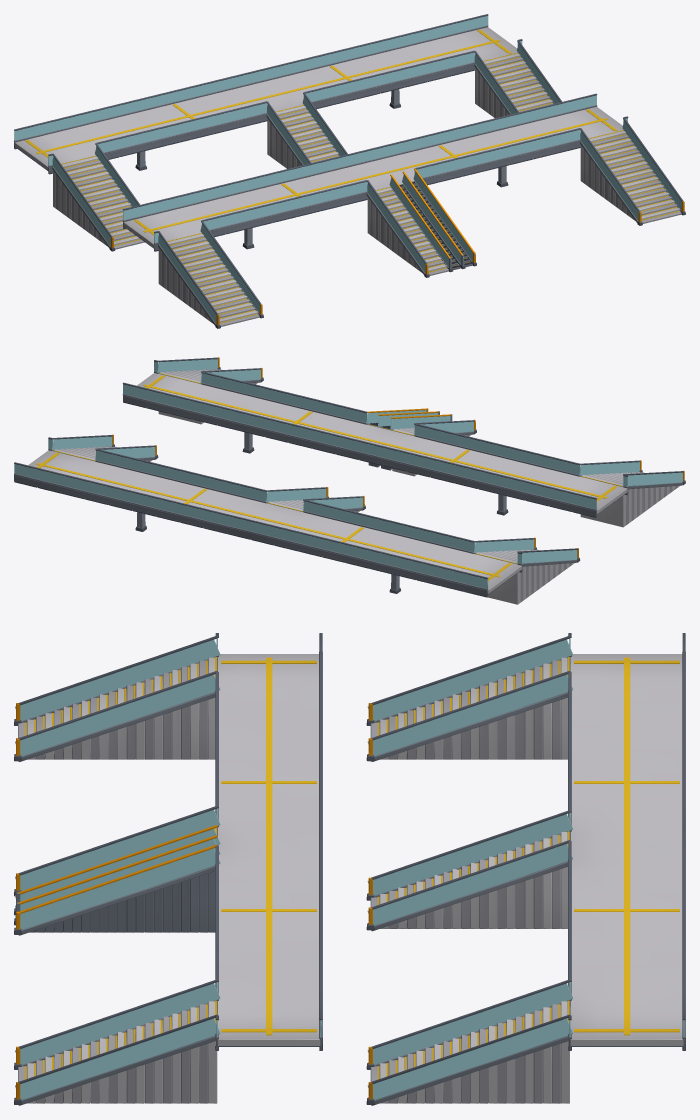
File: bridges.glb
The picture shows the model from 3 angles, top to bottom: view 1: azimuth 30°, elevation 25°; view 2: azimuth 150°, elevation 25°; view 3: azimuth 270°, elevation 25°; orthographic projection. The views are drawn at different scales.
Parts seen in each view (by area): view 1: bridges; view 2: bridges; view 3: bridges.
Part boxes in pixels (x1,y1,x2,y2): bridges: (14, 14, 685, 328); bridges: (14, 357, 685, 604); bridges: (14, 633, 685, 1105).
Bounding box in the file's own units: 44 × 4.8 × 32.39.
